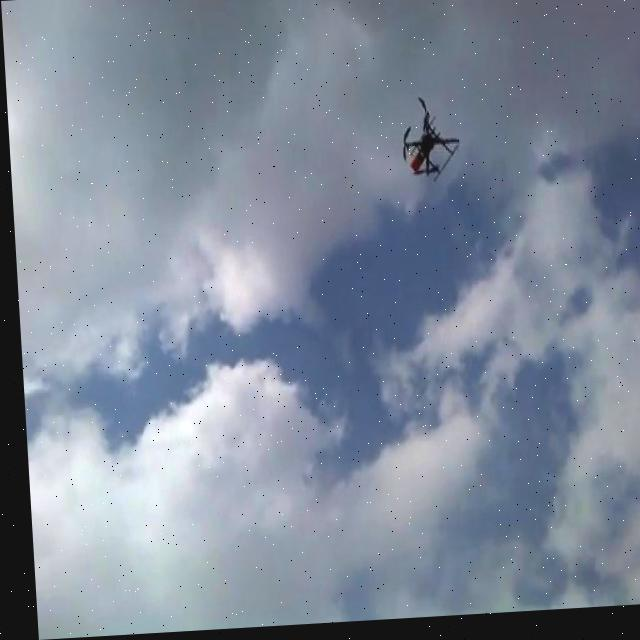drone: (394, 96, 461, 192)
